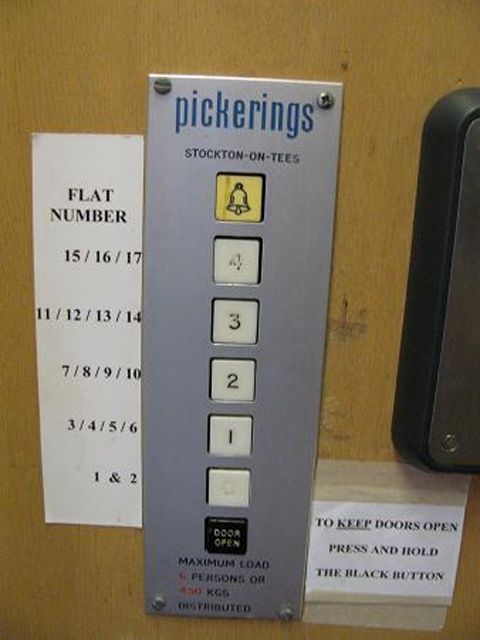1: (206, 411, 254, 459)
2: (207, 356, 257, 403)
3: (209, 297, 260, 345)
4: (210, 233, 264, 287)
alarm: (212, 171, 267, 223)
blur: (203, 465, 252, 507)
text_open: (202, 513, 250, 555)
